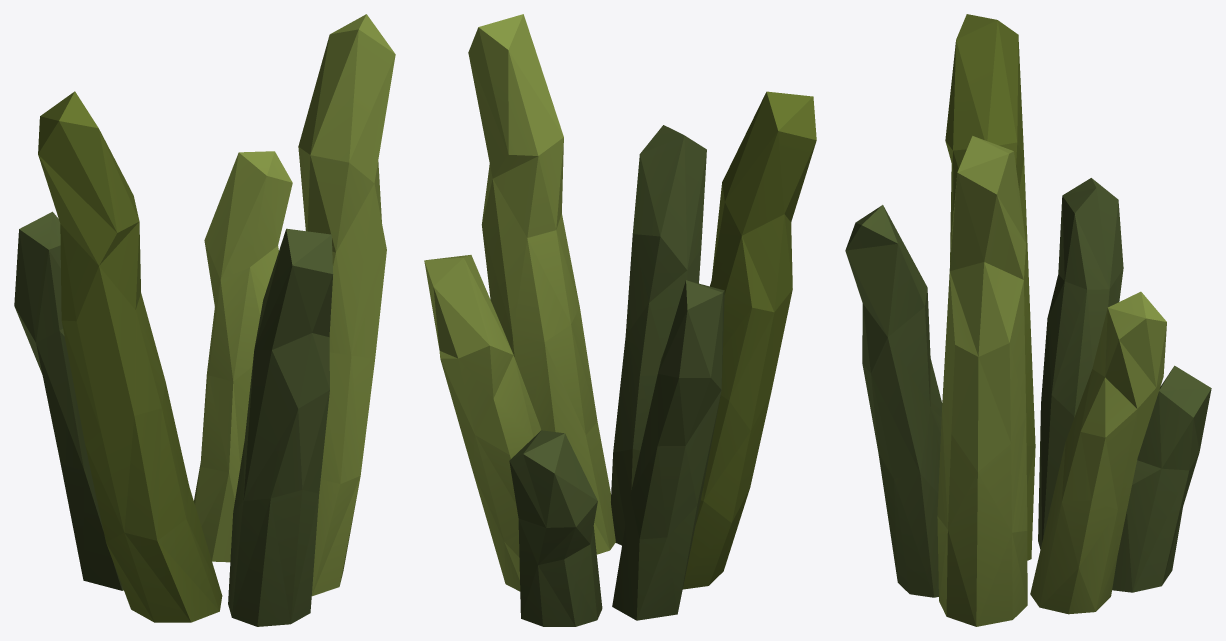
Rendered from swamp_grass_b_low.glb.
3 views of the same model, side by side, from view 1: azimuth 30°, elevation 25°; view 2: azimuth 150°, elevation 25°; view 3: azimuth 270°, elevation 25° (orthographic). The views are drawn at different scales.
Bounding box in the file's own units: 0.6278 × 0.9012 × 0.6011.
